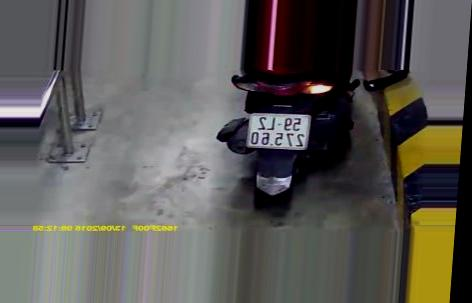License_Plate: (241, 108, 319, 157)
